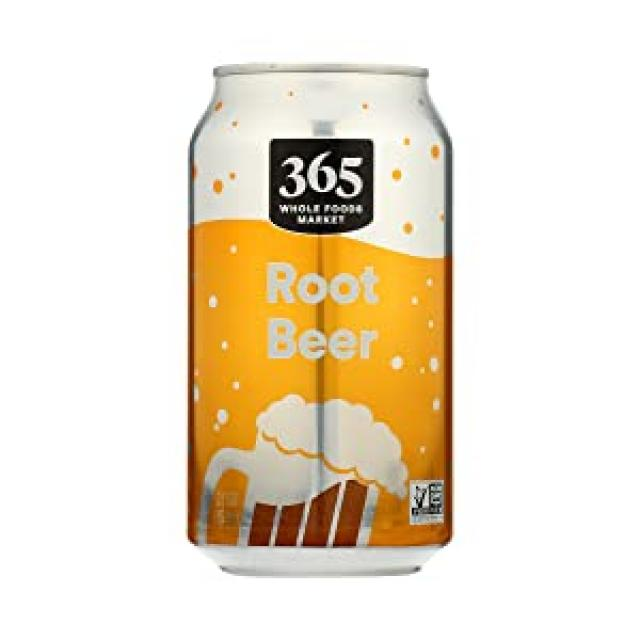non-organic waste: (171, 10, 485, 601)
